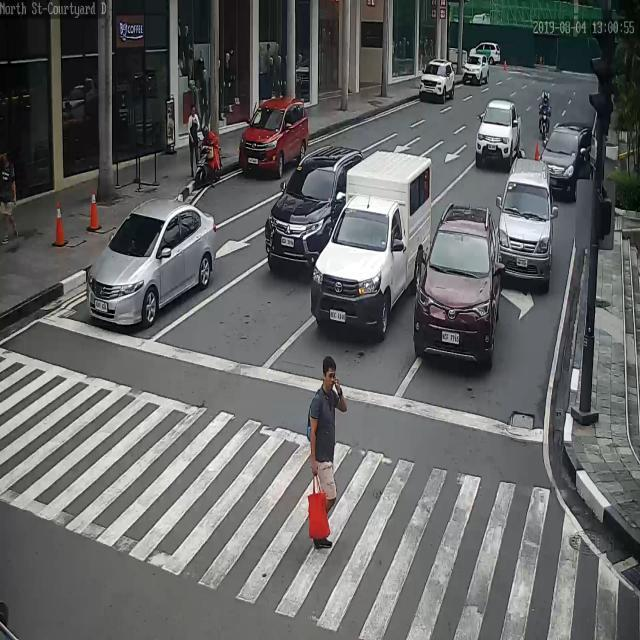car: (86, 201, 218, 331), (414, 207, 502, 370), (263, 146, 365, 281), (495, 156, 553, 294), (240, 96, 312, 180), (543, 124, 593, 202), (475, 100, 522, 170), (420, 60, 455, 104), (468, 40, 502, 65), (460, 61, 489, 87)
jeepney: (195, 125, 221, 189), (539, 89, 551, 144)
van: (311, 153, 435, 340)
